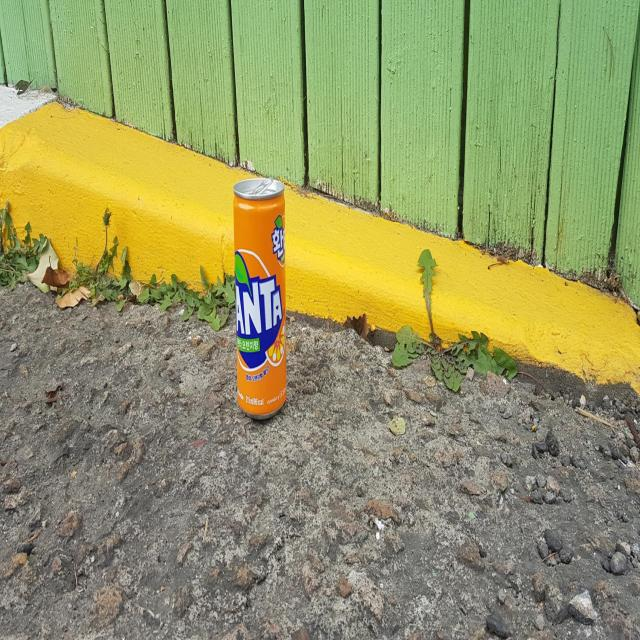can: (233, 176, 286, 418)
